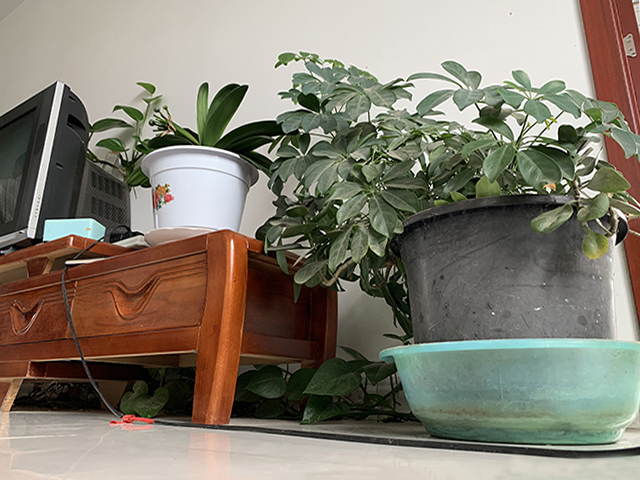table: (1, 228, 339, 427)
wire: (61, 224, 640, 461)
